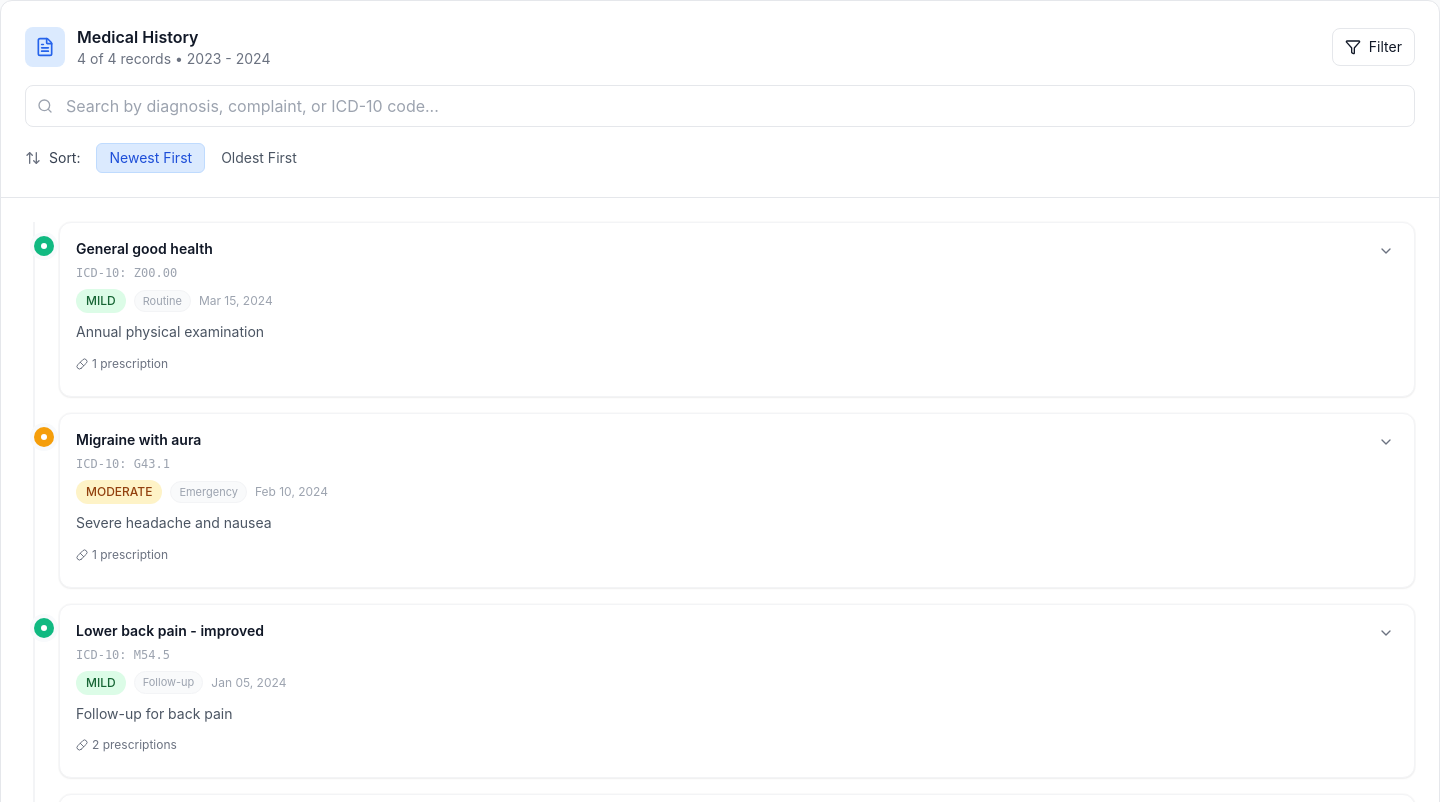
Test case: MedicalHistoryTimeline › Expandable Details › expanded view shows doctor information
The image size is (1440, 802).
Step 1. Click the button named "expand details" → click(1386, 251), box [1374, 239, 1398, 263]
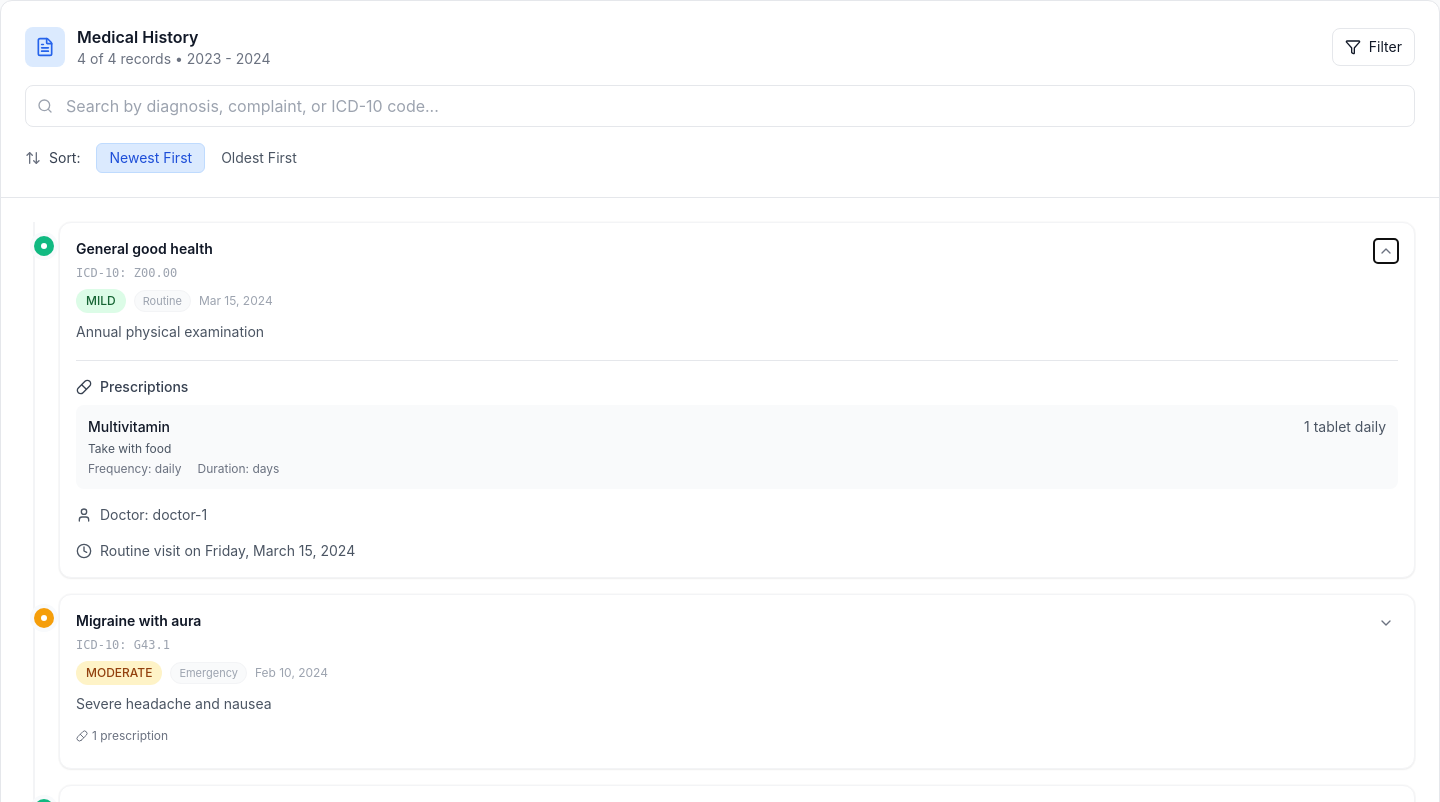
Result: the text "Doctor: doctor-1" is shown at [100, 505, 207, 525]
